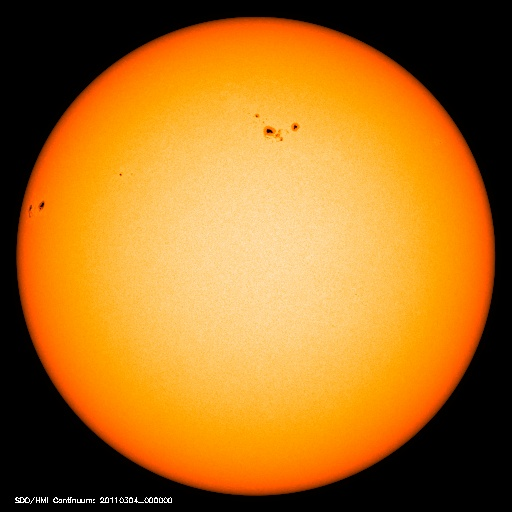sunspot: (247, 104, 306, 148), (20, 194, 53, 223), (107, 162, 133, 187)
